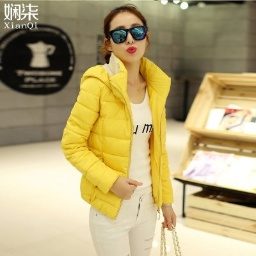face: (101, 5, 152, 69)
